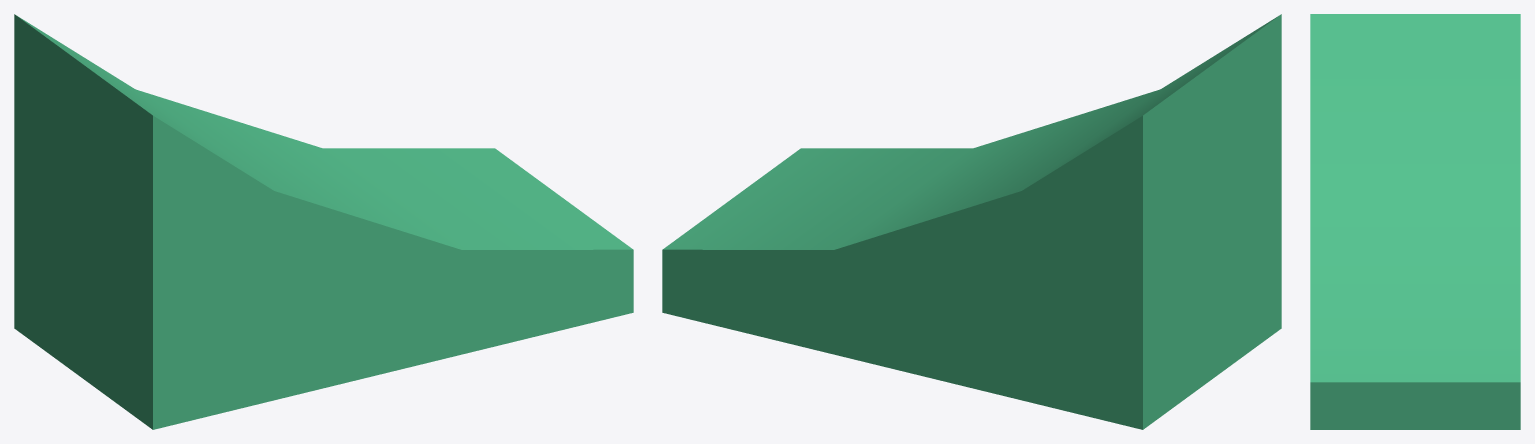
File: gm_ramp_01.dae
3 renders of one model, left to right at view 1: azimuth 30°, elevation 25°; view 2: azimuth 150°, elevation 25°; view 3: azimuth 270°, elevation 25°, orthographic. The views are drawn at different scales.
Visible parts, largest first — view 1: Colmesh-1; view 2: Colmesh-1; view 3: Colmesh-1.
Boxes of the visible parts, x1,y1,x2,y2 form: Colmesh-1: [14, 14, 633, 429]; Colmesh-1: [662, 14, 1281, 429]; Colmesh-1: [1310, 14, 1520, 429].
Bounding box in the file's own units: 8 × 4 × 5.
